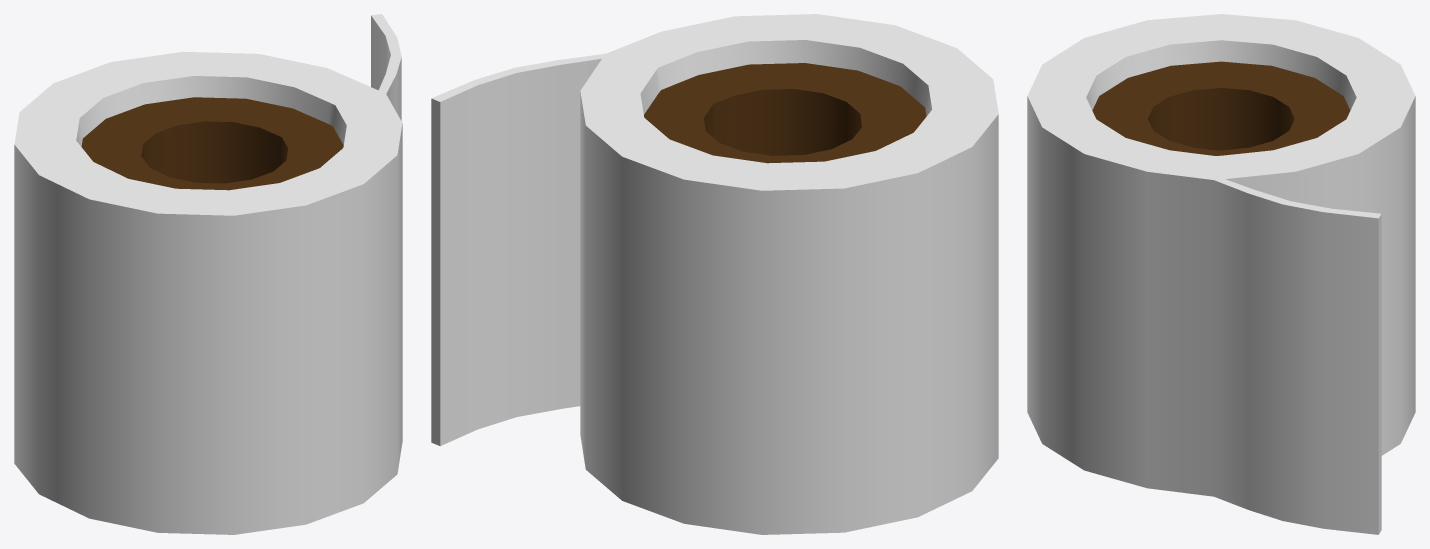
Rendered from ToiletPaper.fbx.
3 renders of one model, left to right at view 1: azimuth 30°, elevation 25°; view 2: azimuth 150°, elevation 25°; view 3: azimuth 270°, elevation 25°, orthographic. The views are drawn at different scales.
Visible parts, largest first — view 1: ToiletPaper; view 2: ToiletPaper; view 3: ToiletPaper.
Part boxes in pixels (x1=…): ToiletPaper: x1=14, y1=14, x2=402, y2=534; ToiletPaper: x1=431, y1=14, x2=998, y2=534; ToiletPaper: x1=1027, y1=14, x2=1415, y2=534.
Bounding box in the file's own units: 34.9 × 25.2 × 28.
